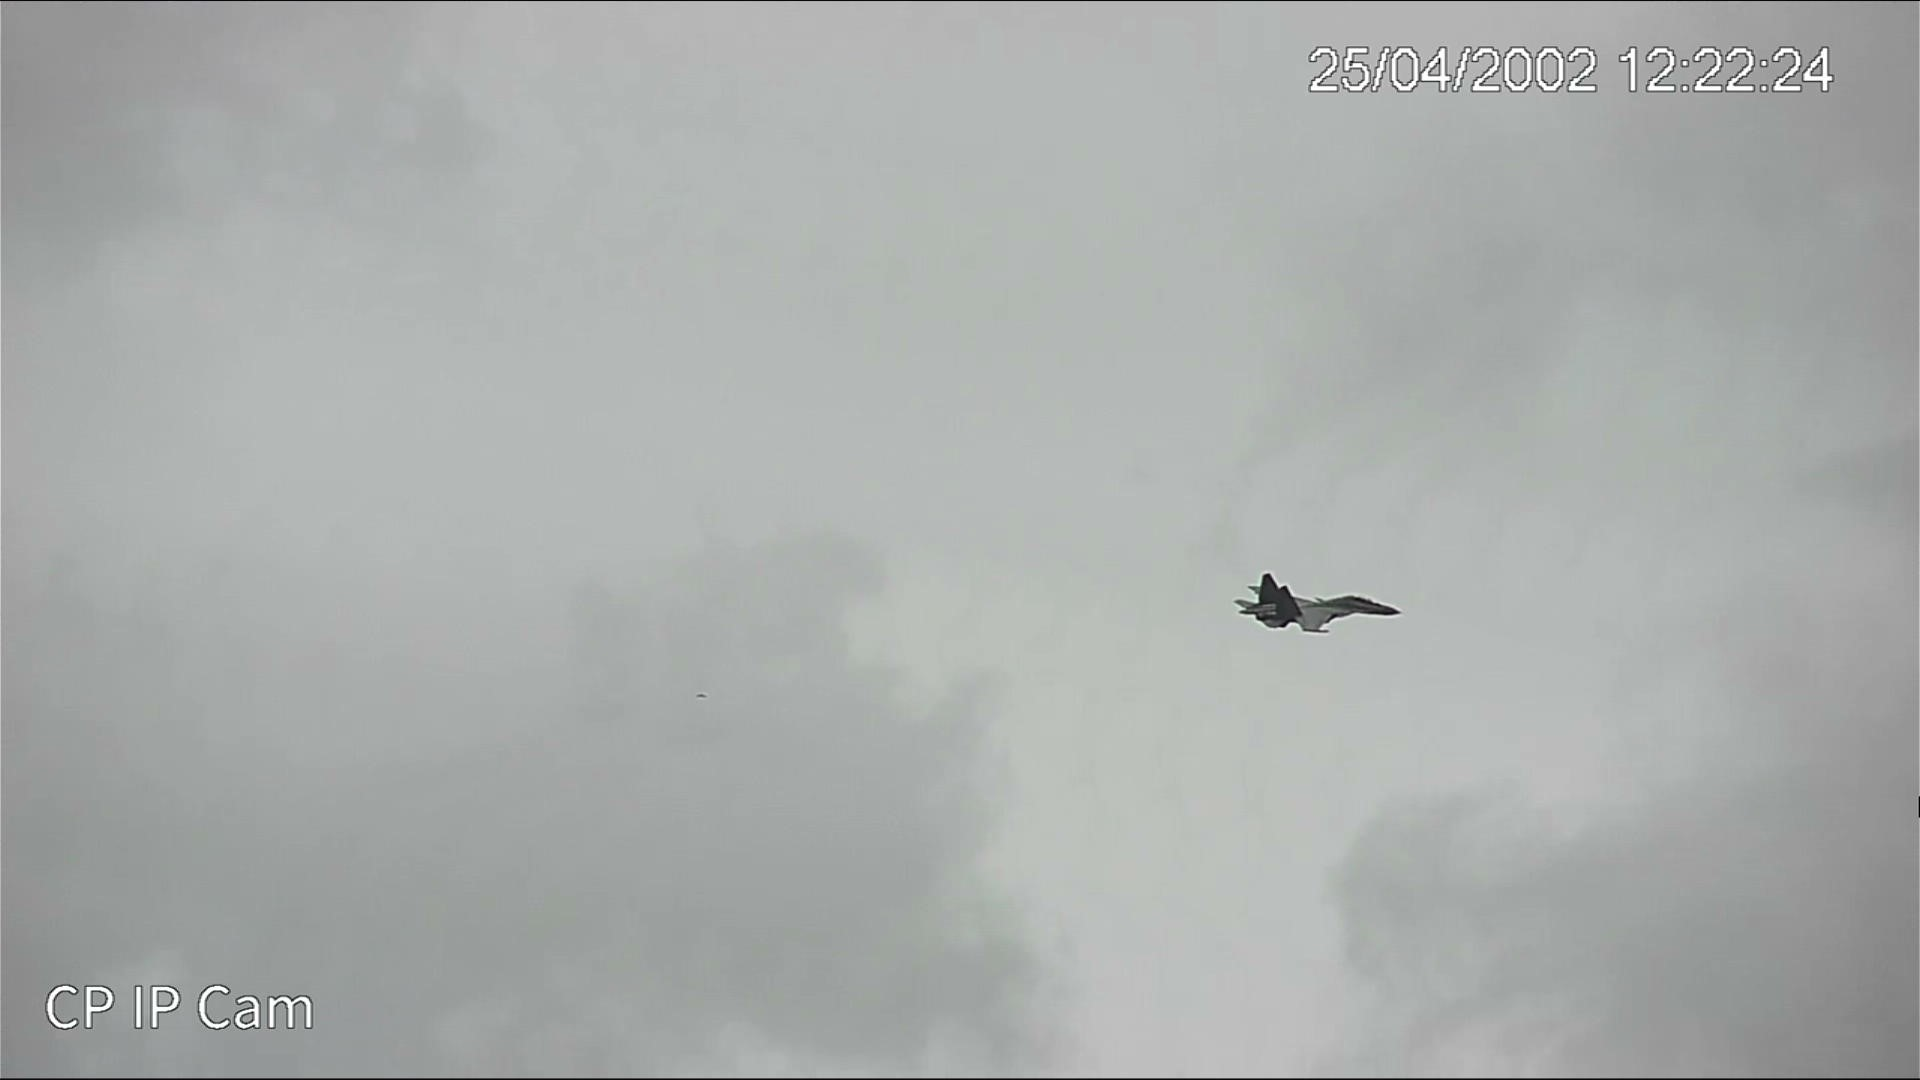SU_30: (1232, 568, 1408, 637)
